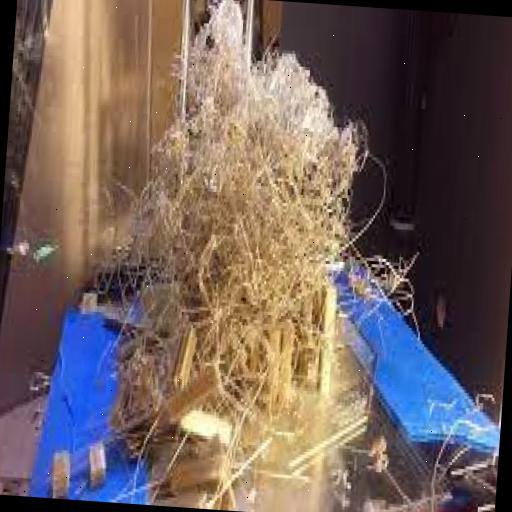spaghetti: (76, 19, 398, 427)
